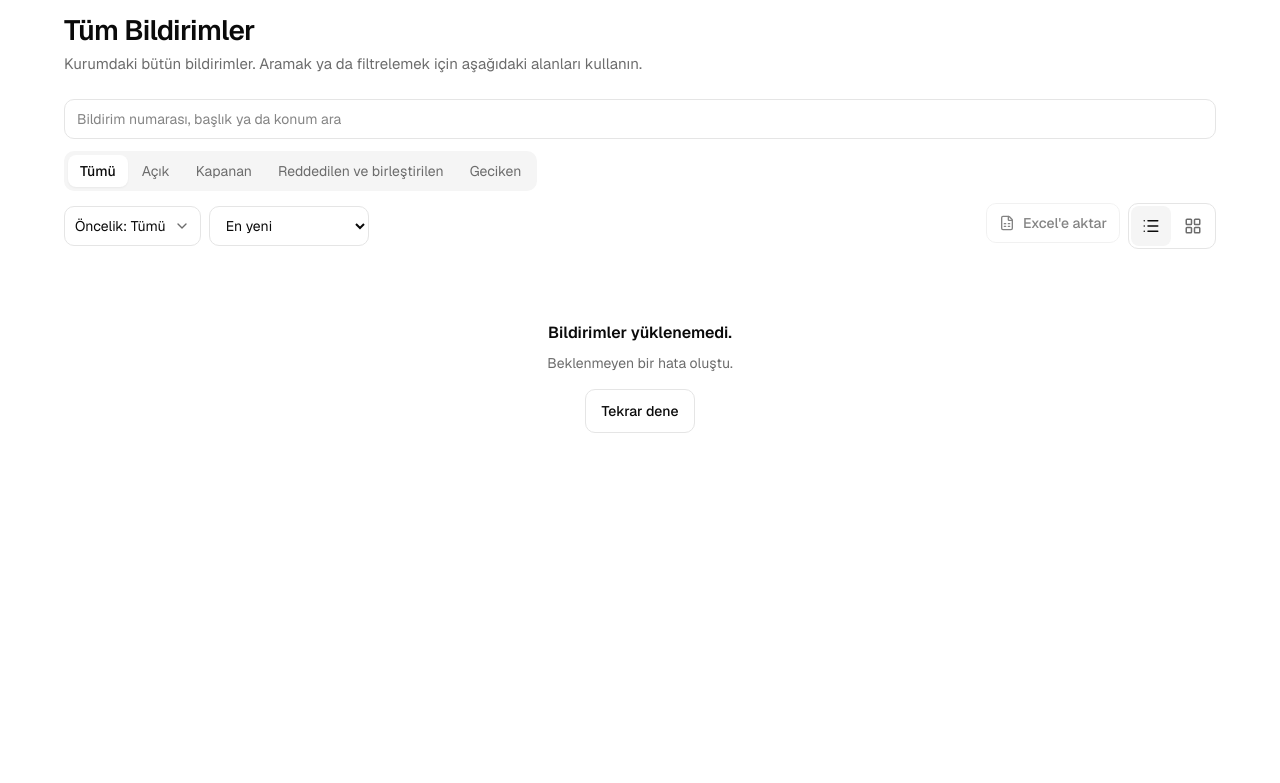
Scenario: CaseList › shows the backend error and loads again on retry
Expected: the message shows "Bildirimler yüklenemedi.", [548,322,732,343]
Expected: the message shows "Beklenmeyen bir hata oluştu.", [547,354,733,372]
Step 1. Click the button "Tekrar dene" → {"x": 640, "y": 411}, box [584,389,695,433]
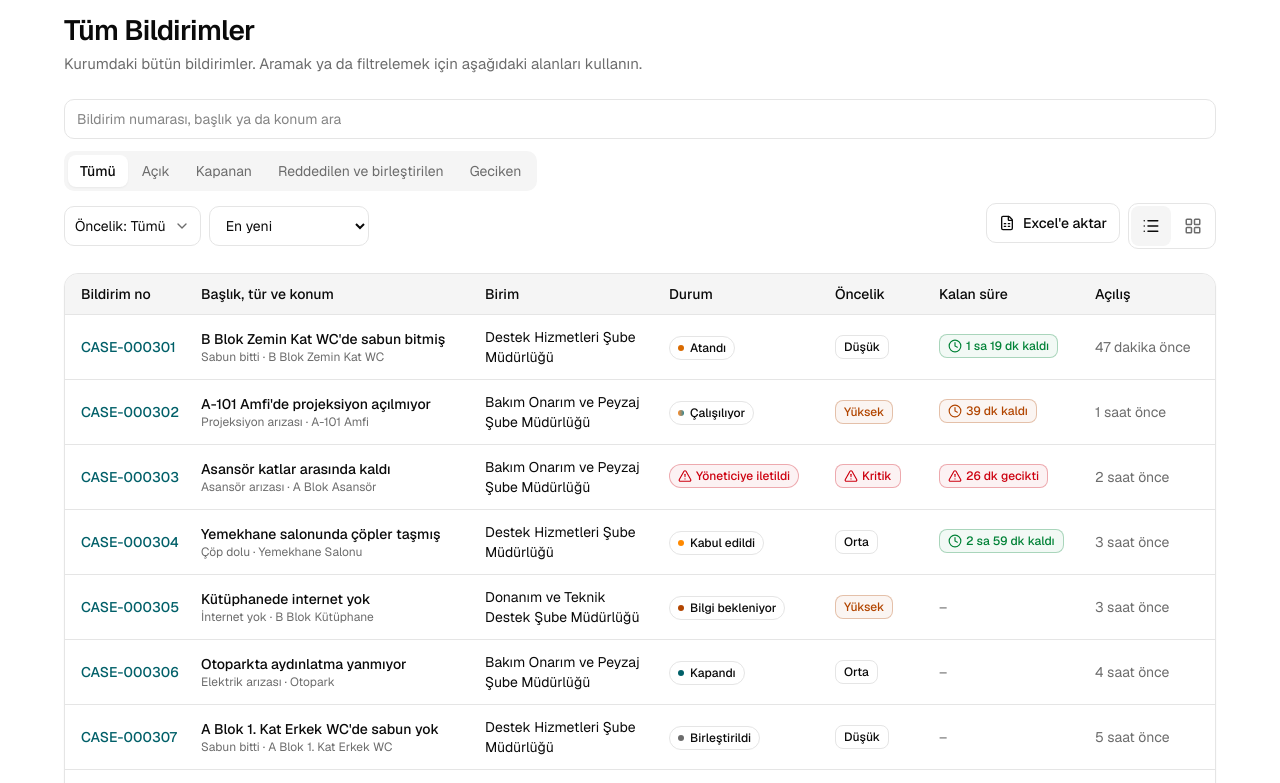
Now the number of list items is 20
